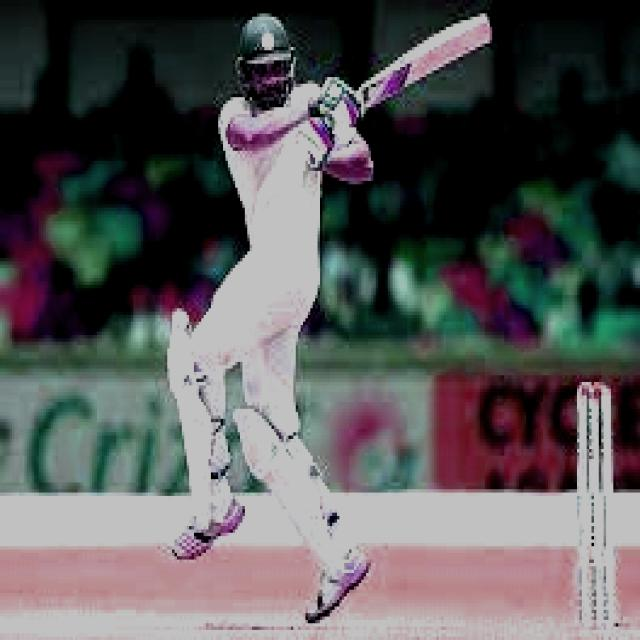toe: (472, 11, 495, 52)
